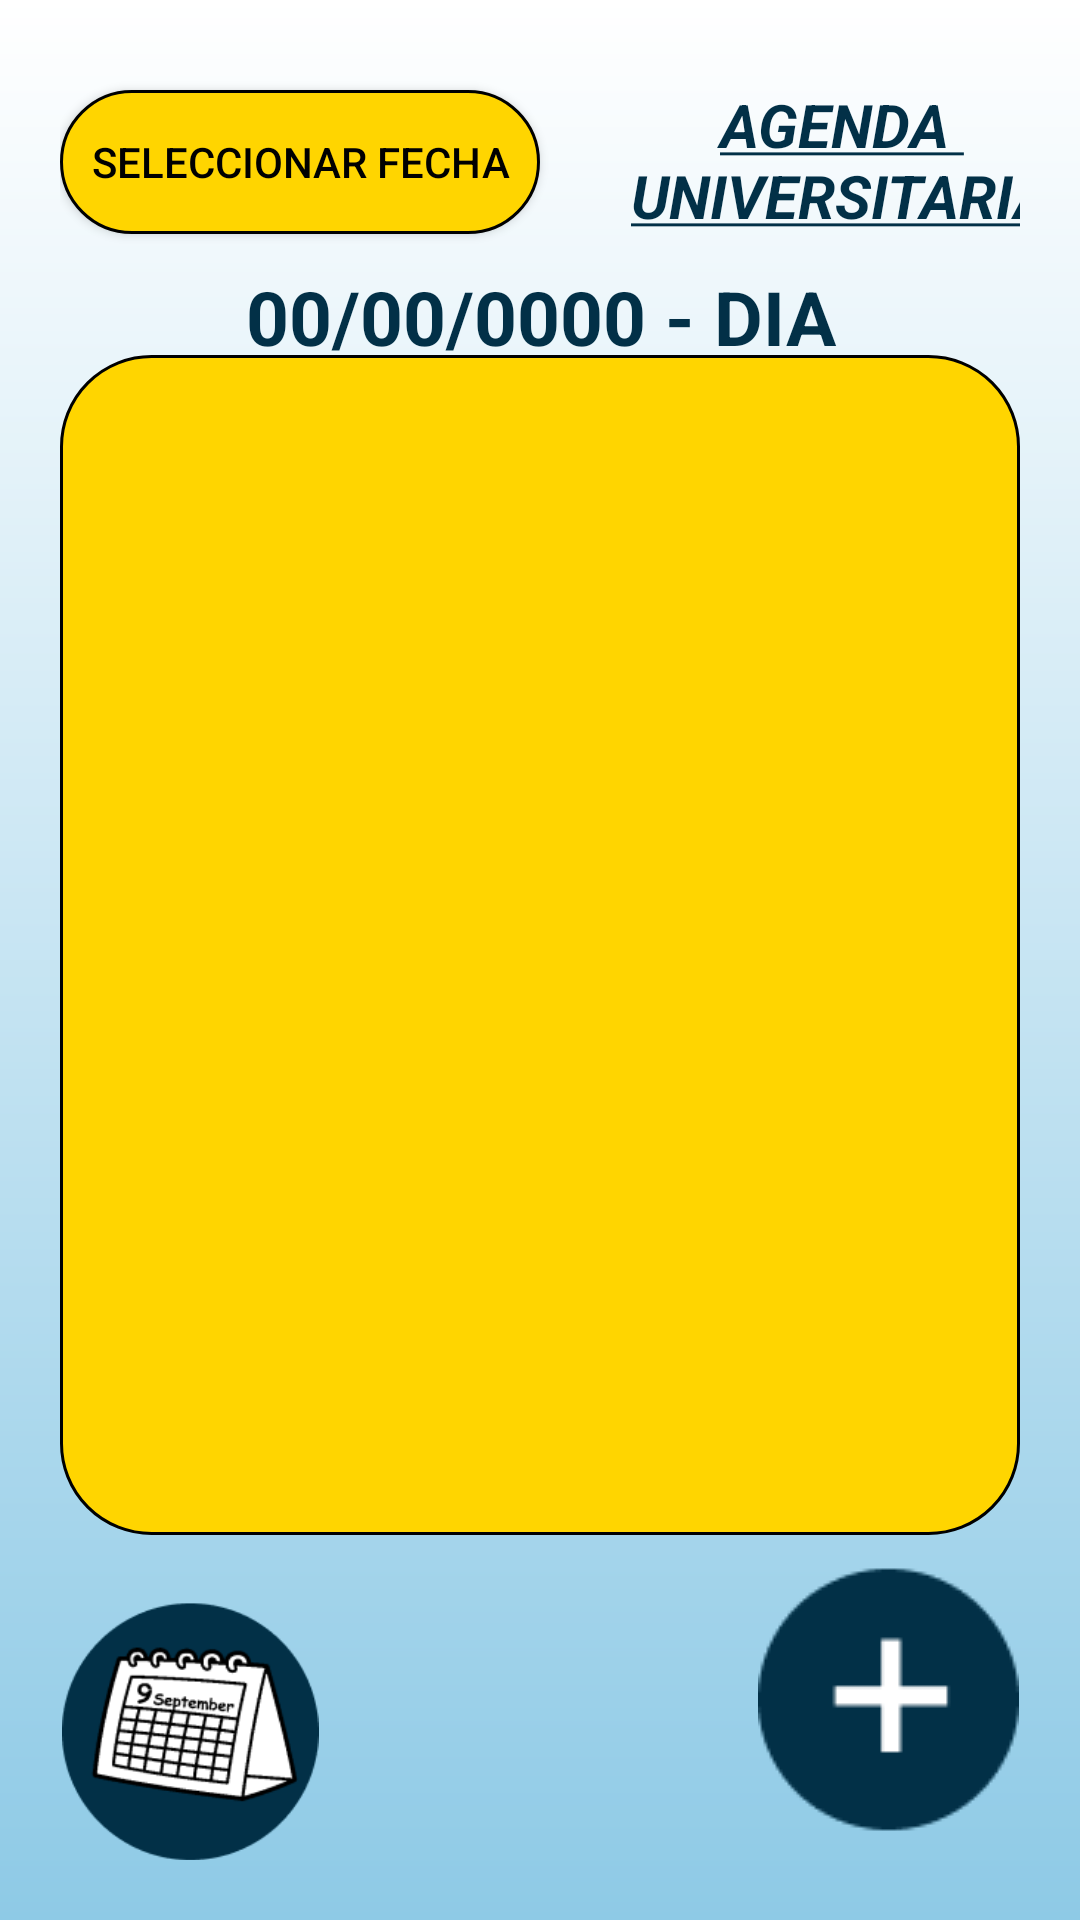

Icons on this 1080x1920 Android screen, each with the point to tap as point (x, y):
mas: point (888, 1699)
